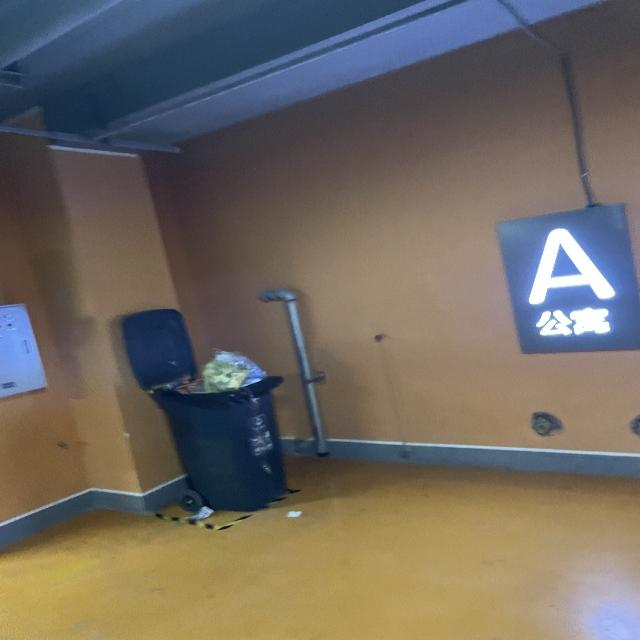overflow: (156, 348, 284, 512)
